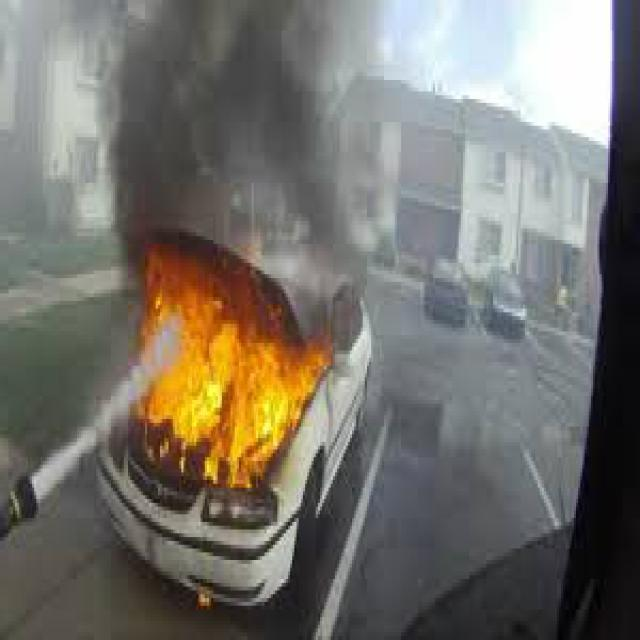Fire: (94, 228, 336, 512)
Smoke: (100, 0, 377, 265)
